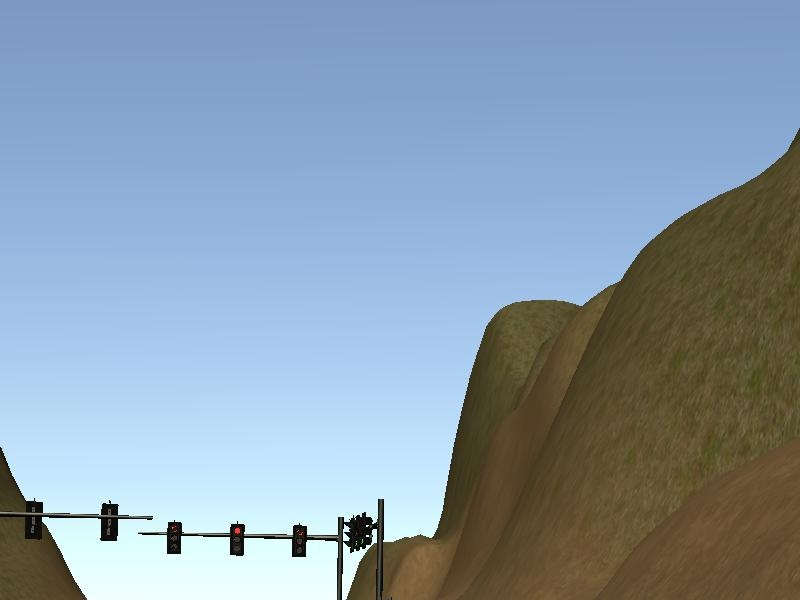traffic_light_red: (156, 522, 333, 558)
